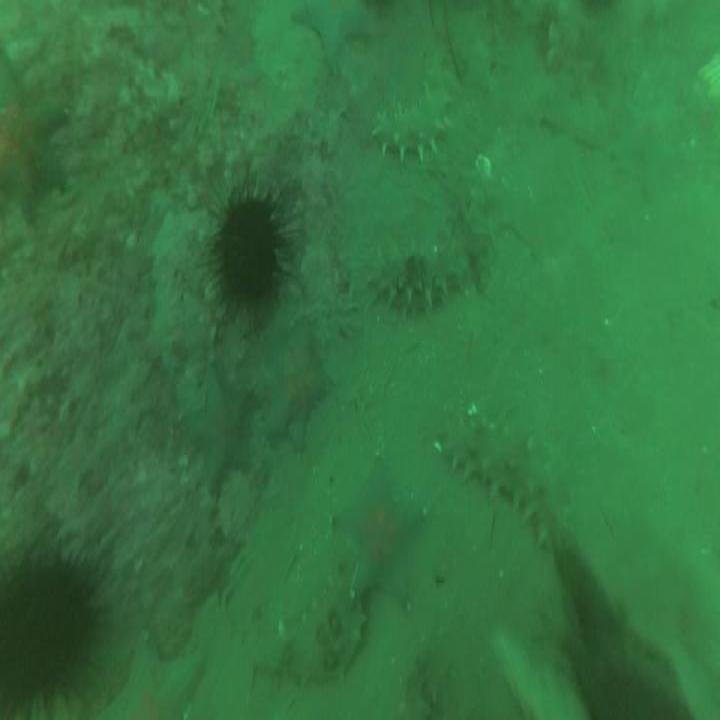echinus: (0, 562, 91, 720), (217, 197, 278, 308)
holothurian: (443, 409, 565, 553), (362, 234, 471, 314), (374, 92, 451, 158)
scallop: (474, 153, 492, 178)
starfish: (333, 457, 422, 608), (1, 50, 68, 226), (98, 634, 202, 720), (258, 331, 330, 453), (187, 362, 252, 490), (616, 90, 681, 204), (293, 2, 369, 76)
